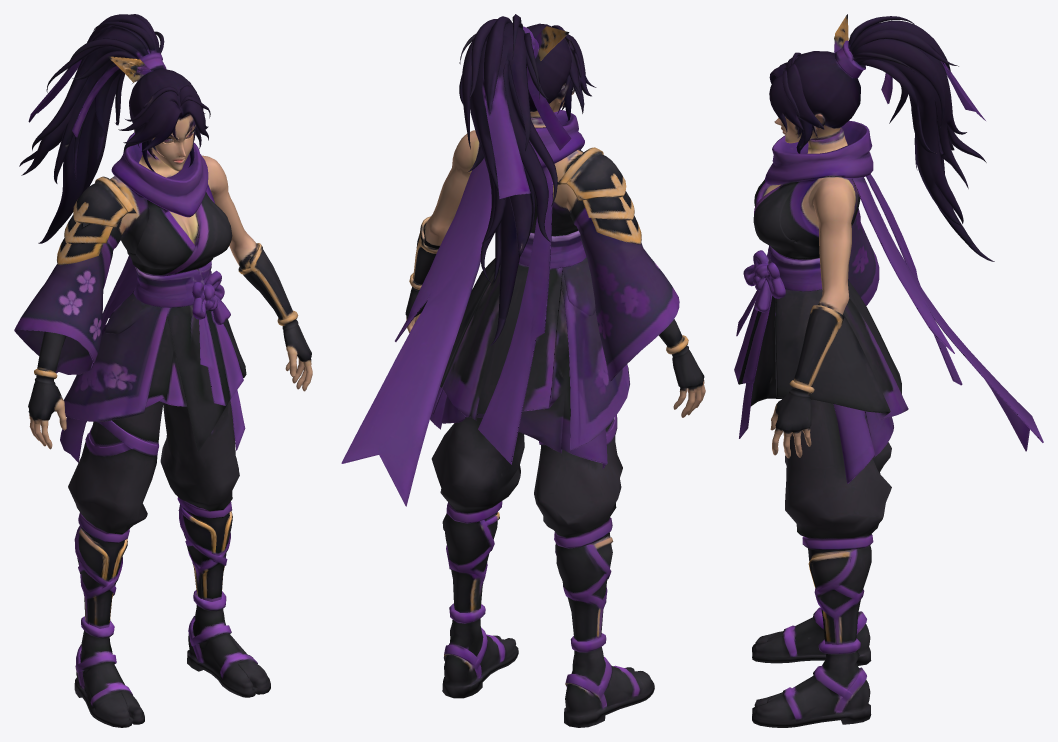
Rendered from Bloodshift_NinjaV6_Textured.glb.
3 views of the same model, side by side, from view 1: azimuth 30°, elevation 25°; view 2: azimuth 150°, elevation 25°; view 3: azimuth 270°, elevation 25° (orthographic). The views are drawn at different scales.
Parts seen in each view (by area): view 1: NinjaV6_ReferenceTextured; view 2: NinjaV6_ReferenceTextured; view 3: NinjaV6_ReferenceTextured.
Boxes of the visible parts, bbox=[...] form: NinjaV6_ReferenceTextured: bbox=[14, 14, 312, 727]; NinjaV6_ReferenceTextured: bbox=[341, 14, 705, 727]; NinjaV6_ReferenceTextured: bbox=[734, 14, 1043, 727].
Bounding box in the file's own units: 0.4438 × 0.9995 × 0.4204.
Materials: 1 (1 with a texture image).
